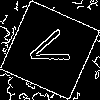V: (25, 25, 80, 73)
